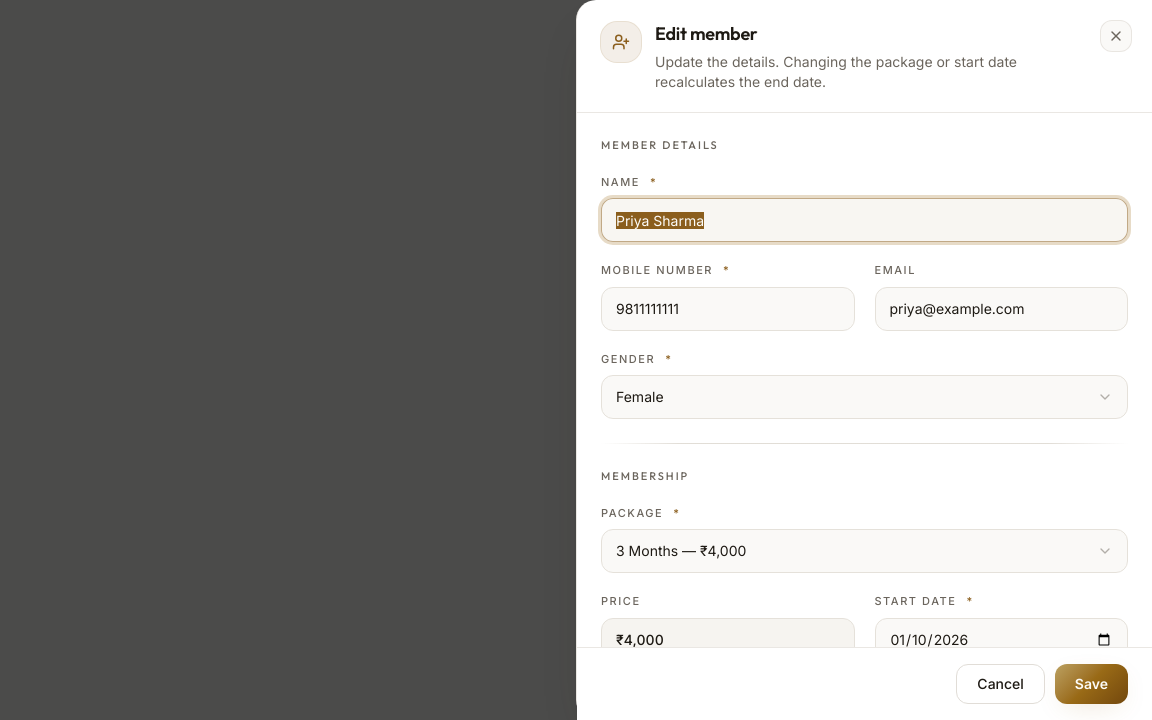
MemberFormDrawer — edit › shows a server field error against the right input
This screenshot has width=1152, height=720.
Click the button "Save" at (1091, 684), box [1055,664,1128,704]
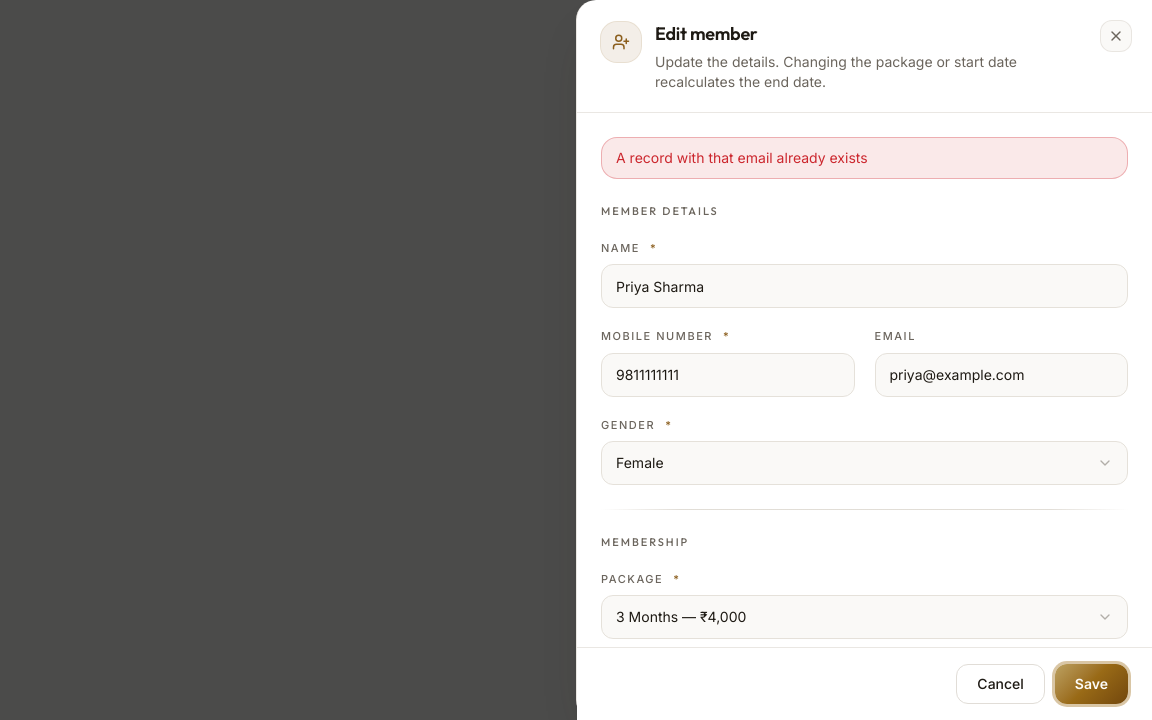
Now the message shows "already exists", box [616,149,868,166]
